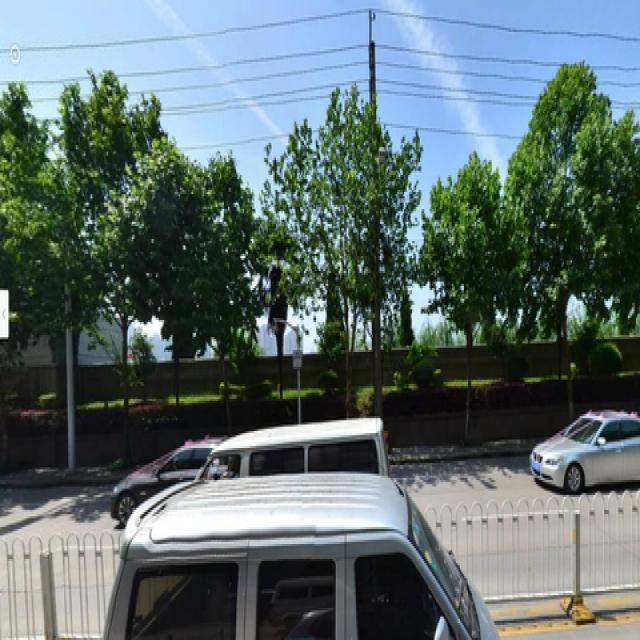meta: (427, 164, 509, 454)
